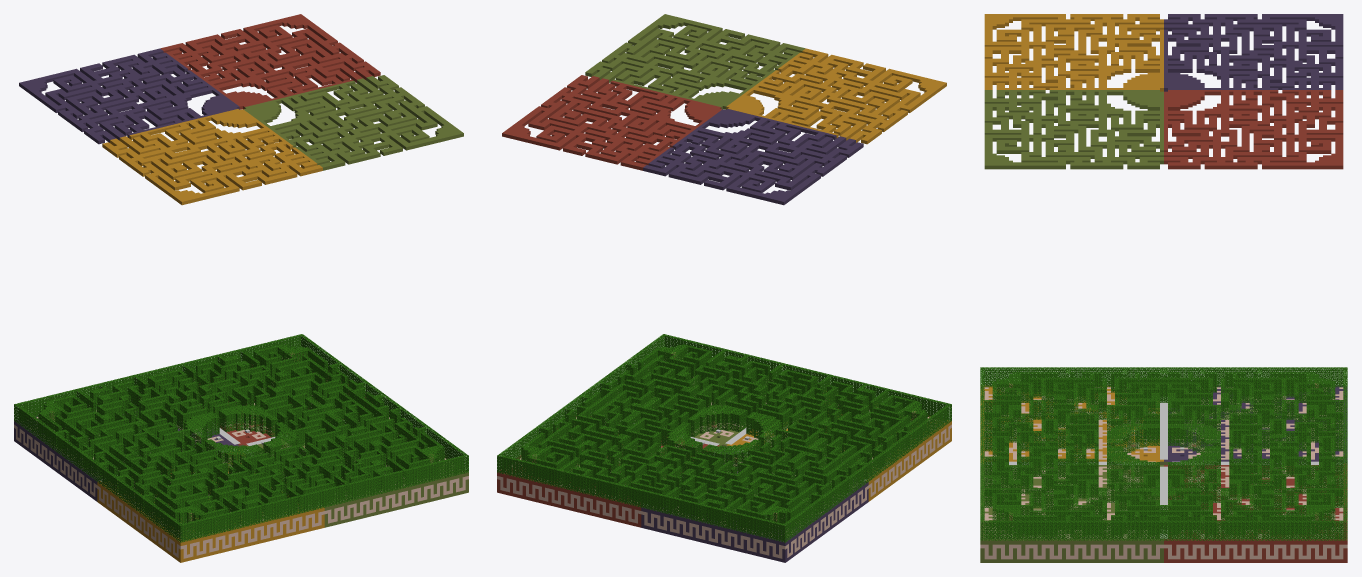
File: minecraft.obj
3 views of the same model, side by side, from view 1: azimuth 30°, elevation 25°; view 2: azimuth 150°, elevation 25°; view 3: azimuth 270°, elevation 25° (orthographic). The views are drawn at different scales.
Size of the model in its own units: 90 by 107 by 90.
